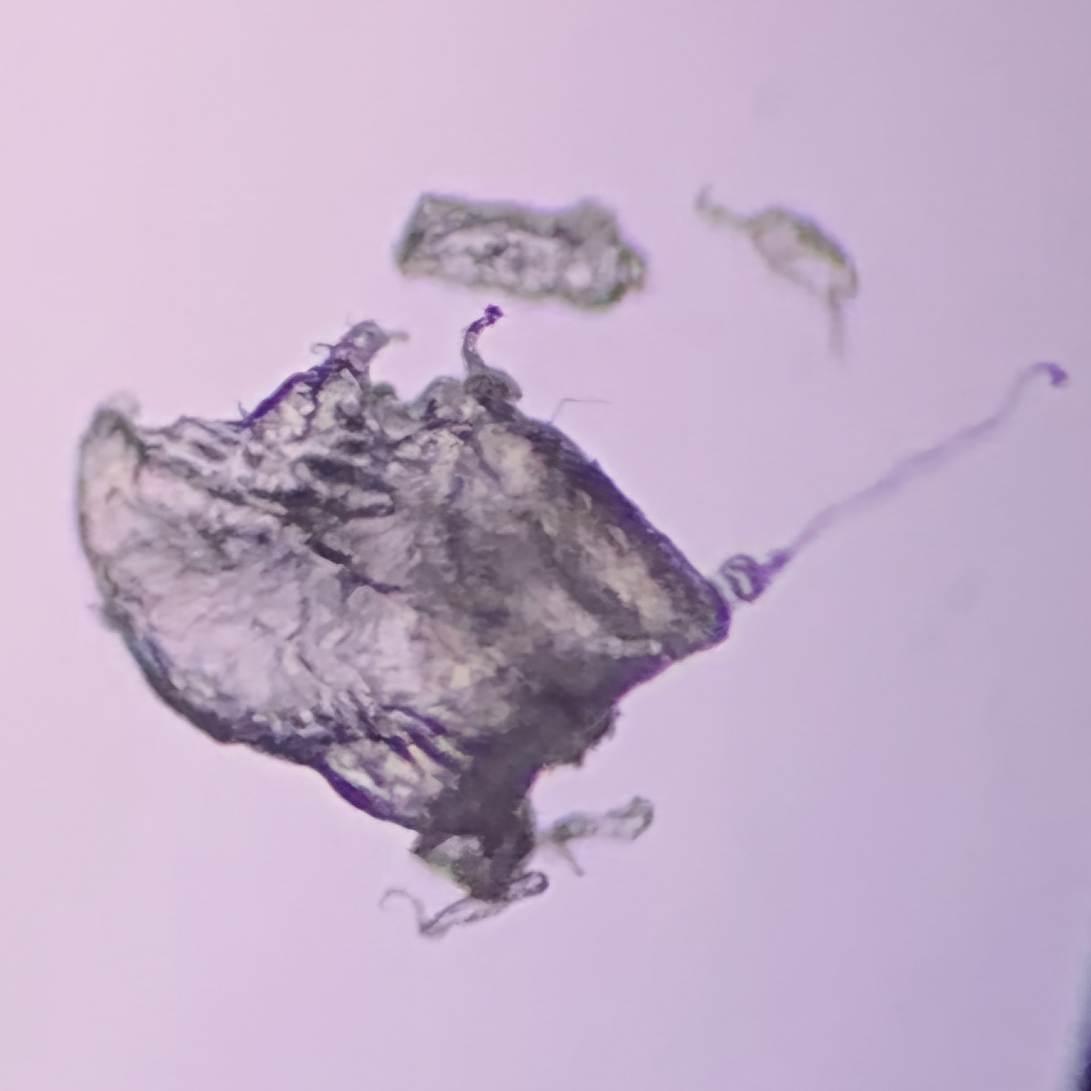microplastic: (71, 313, 868, 957), (671, 177, 895, 363), (390, 177, 653, 328)
